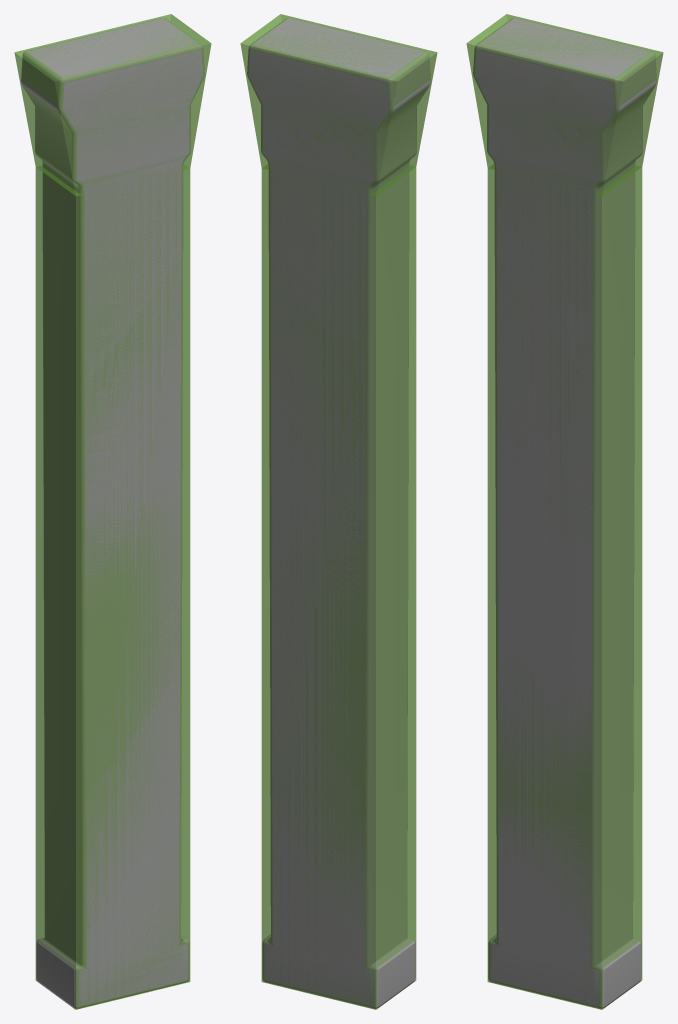
The model's file is M_md_StallWall_end_02_l.fbx.
The picture shows the model from 3 angles, left to right: view 1: azimuth 30°, elevation 25°; view 2: azimuth 150°, elevation 25°; view 3: azimuth 330°, elevation 25°; orthographic projection.
Visible parts, largest first — view 1: M_md_StallWall_end_02_l, M_md_StallWall_end_02_l_col_01, M_md_StallWall_end_02_l_col_02; view 2: M_md_StallWall_end_02_l, M_md_StallWall_end_02_l_col_01, M_md_StallWall_end_02_l_col_02; view 3: M_md_StallWall_end_02_l, M_md_StallWall_end_02_l_col_01, M_md_StallWall_end_02_l_col_02.
Part boxes in pixels (<box>): M_md_StallWall_end_02_l: <box>21,18,204,1008</box>; M_md_StallWall_end_02_l_col_01: <box>35,164,190,1009</box>; M_md_StallWall_end_02_l_col_02: <box>14,14,211,195</box>; M_md_StallWall_end_02_l: <box>247,18,430,1008</box>; M_md_StallWall_end_02_l_col_01: <box>261,164,416,1009</box>; M_md_StallWall_end_02_l_col_02: <box>240,14,437,196</box>; M_md_StallWall_end_02_l: <box>473,18,656,1008</box>; M_md_StallWall_end_02_l_col_01: <box>487,164,642,1009</box>; M_md_StallWall_end_02_l_col_02: <box>466,14,663,195</box>.
Bounding box in the file's own units: 52.74 × 300 × 23.36.
